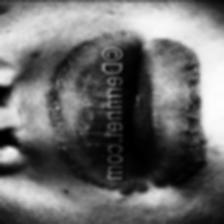Non-Cancerous Skin Condition: (156, 38, 210, 190), (46, 46, 90, 178)
